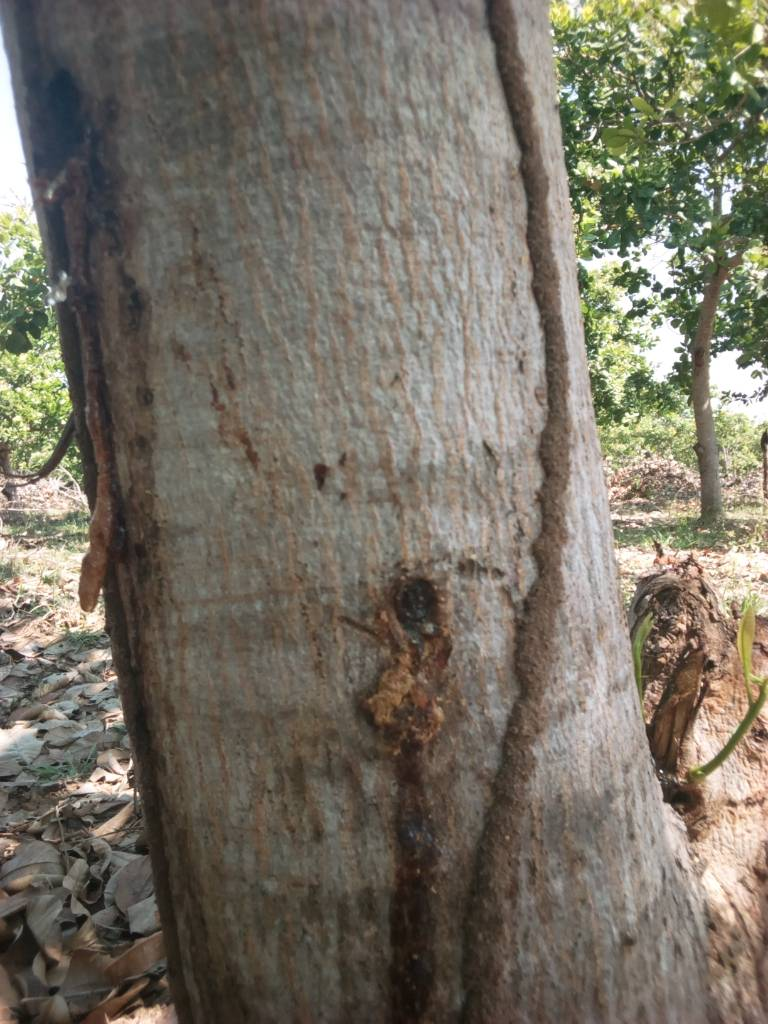Termites: (457, 653, 561, 1024), (518, 164, 569, 622)
